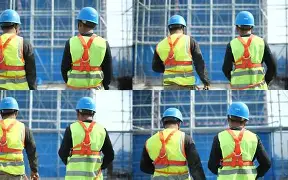safety belt: (146, 128, 190, 167), (216, 124, 254, 167), (68, 118, 105, 157), (69, 34, 105, 72), (231, 34, 266, 71), (158, 35, 198, 67), (0, 34, 25, 73), (1, 119, 26, 155)
